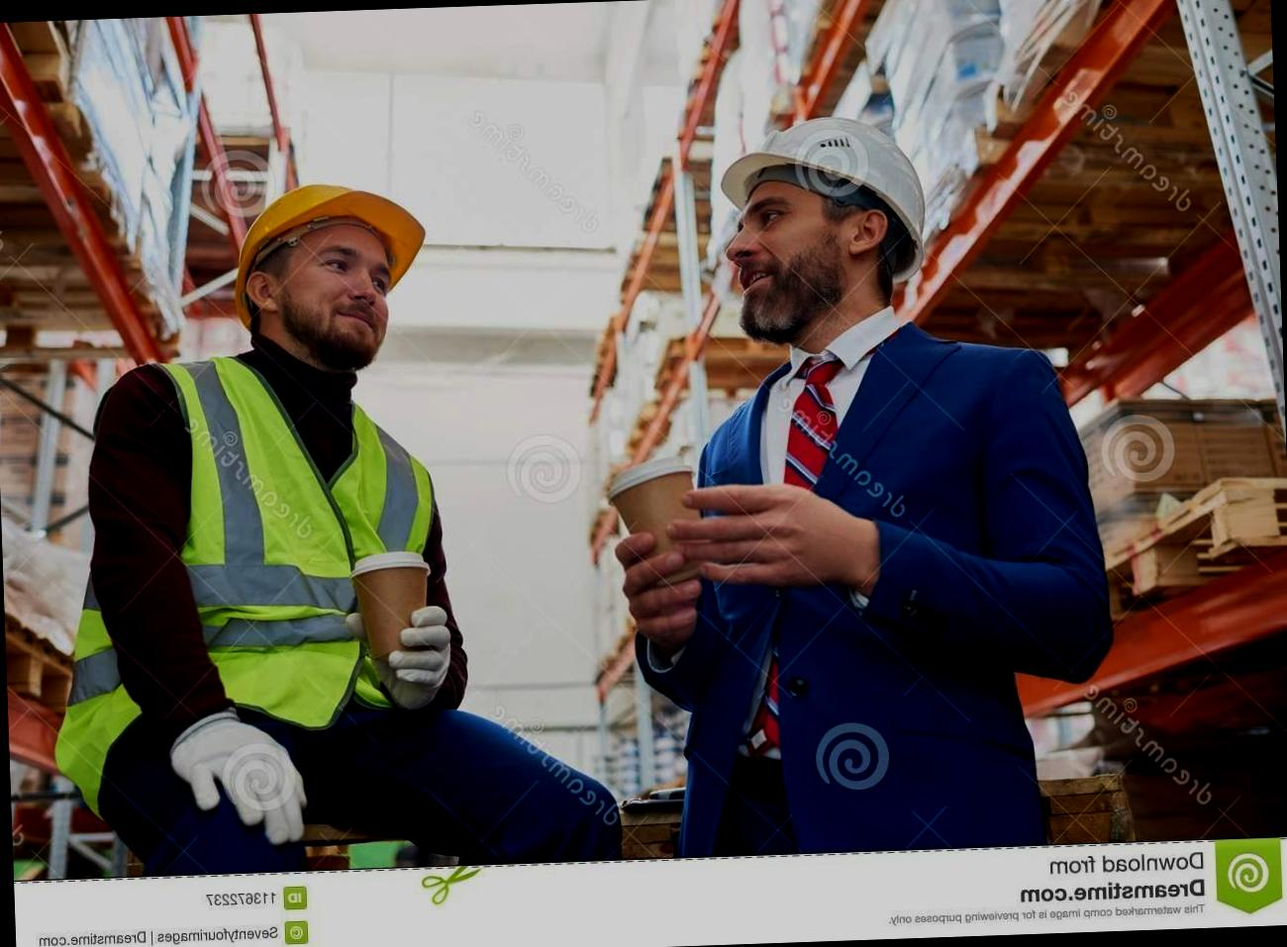helmet: (718, 103, 926, 292), (226, 176, 436, 330)
no_vest: (685, 318, 1080, 817)
person: (648, 109, 1096, 868), (24, 164, 475, 883)
